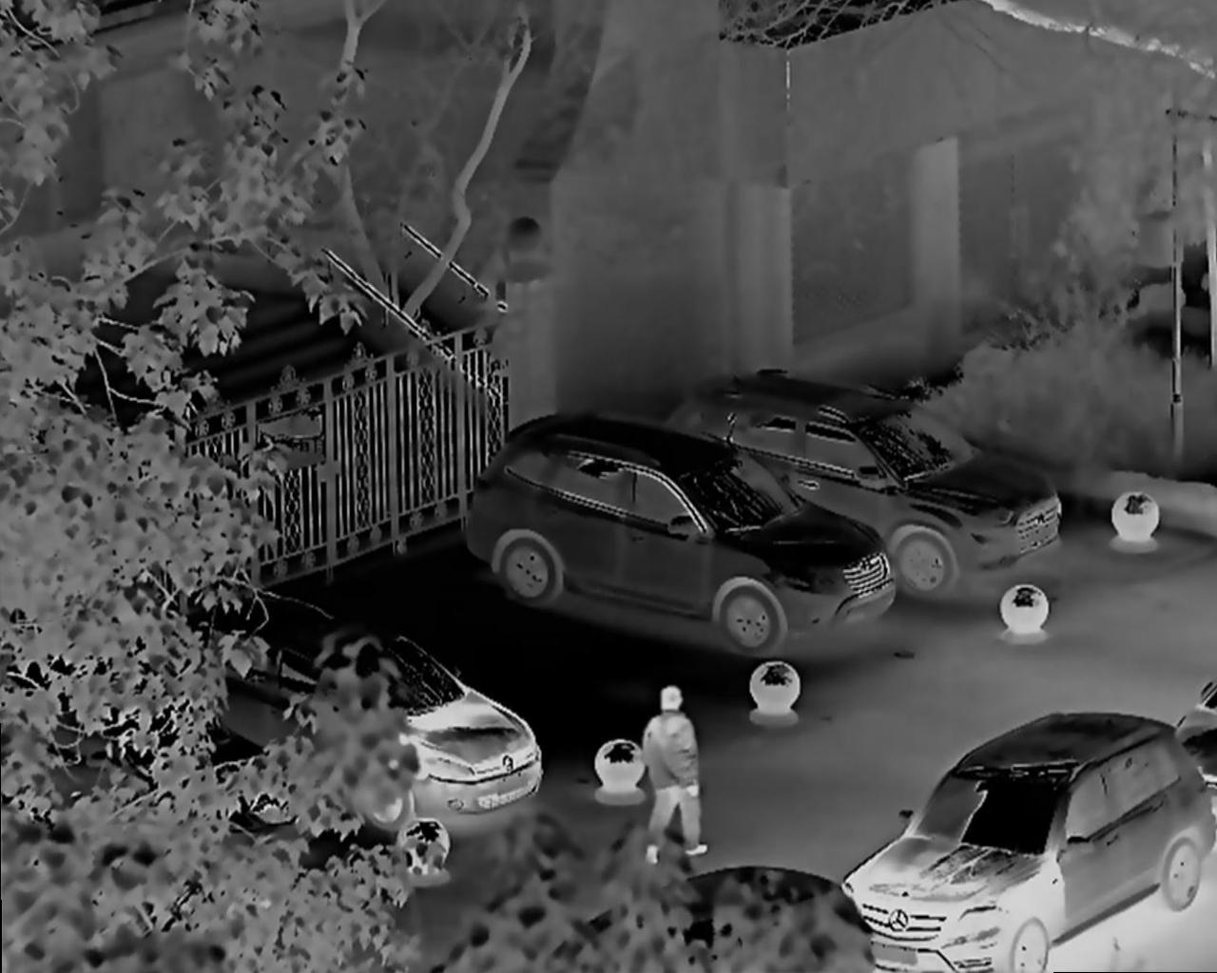person: (640, 685, 709, 867)
